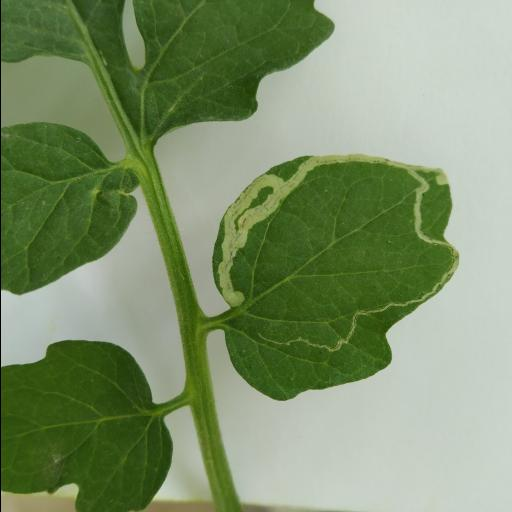disease_tomato: (210, 151, 456, 402)
